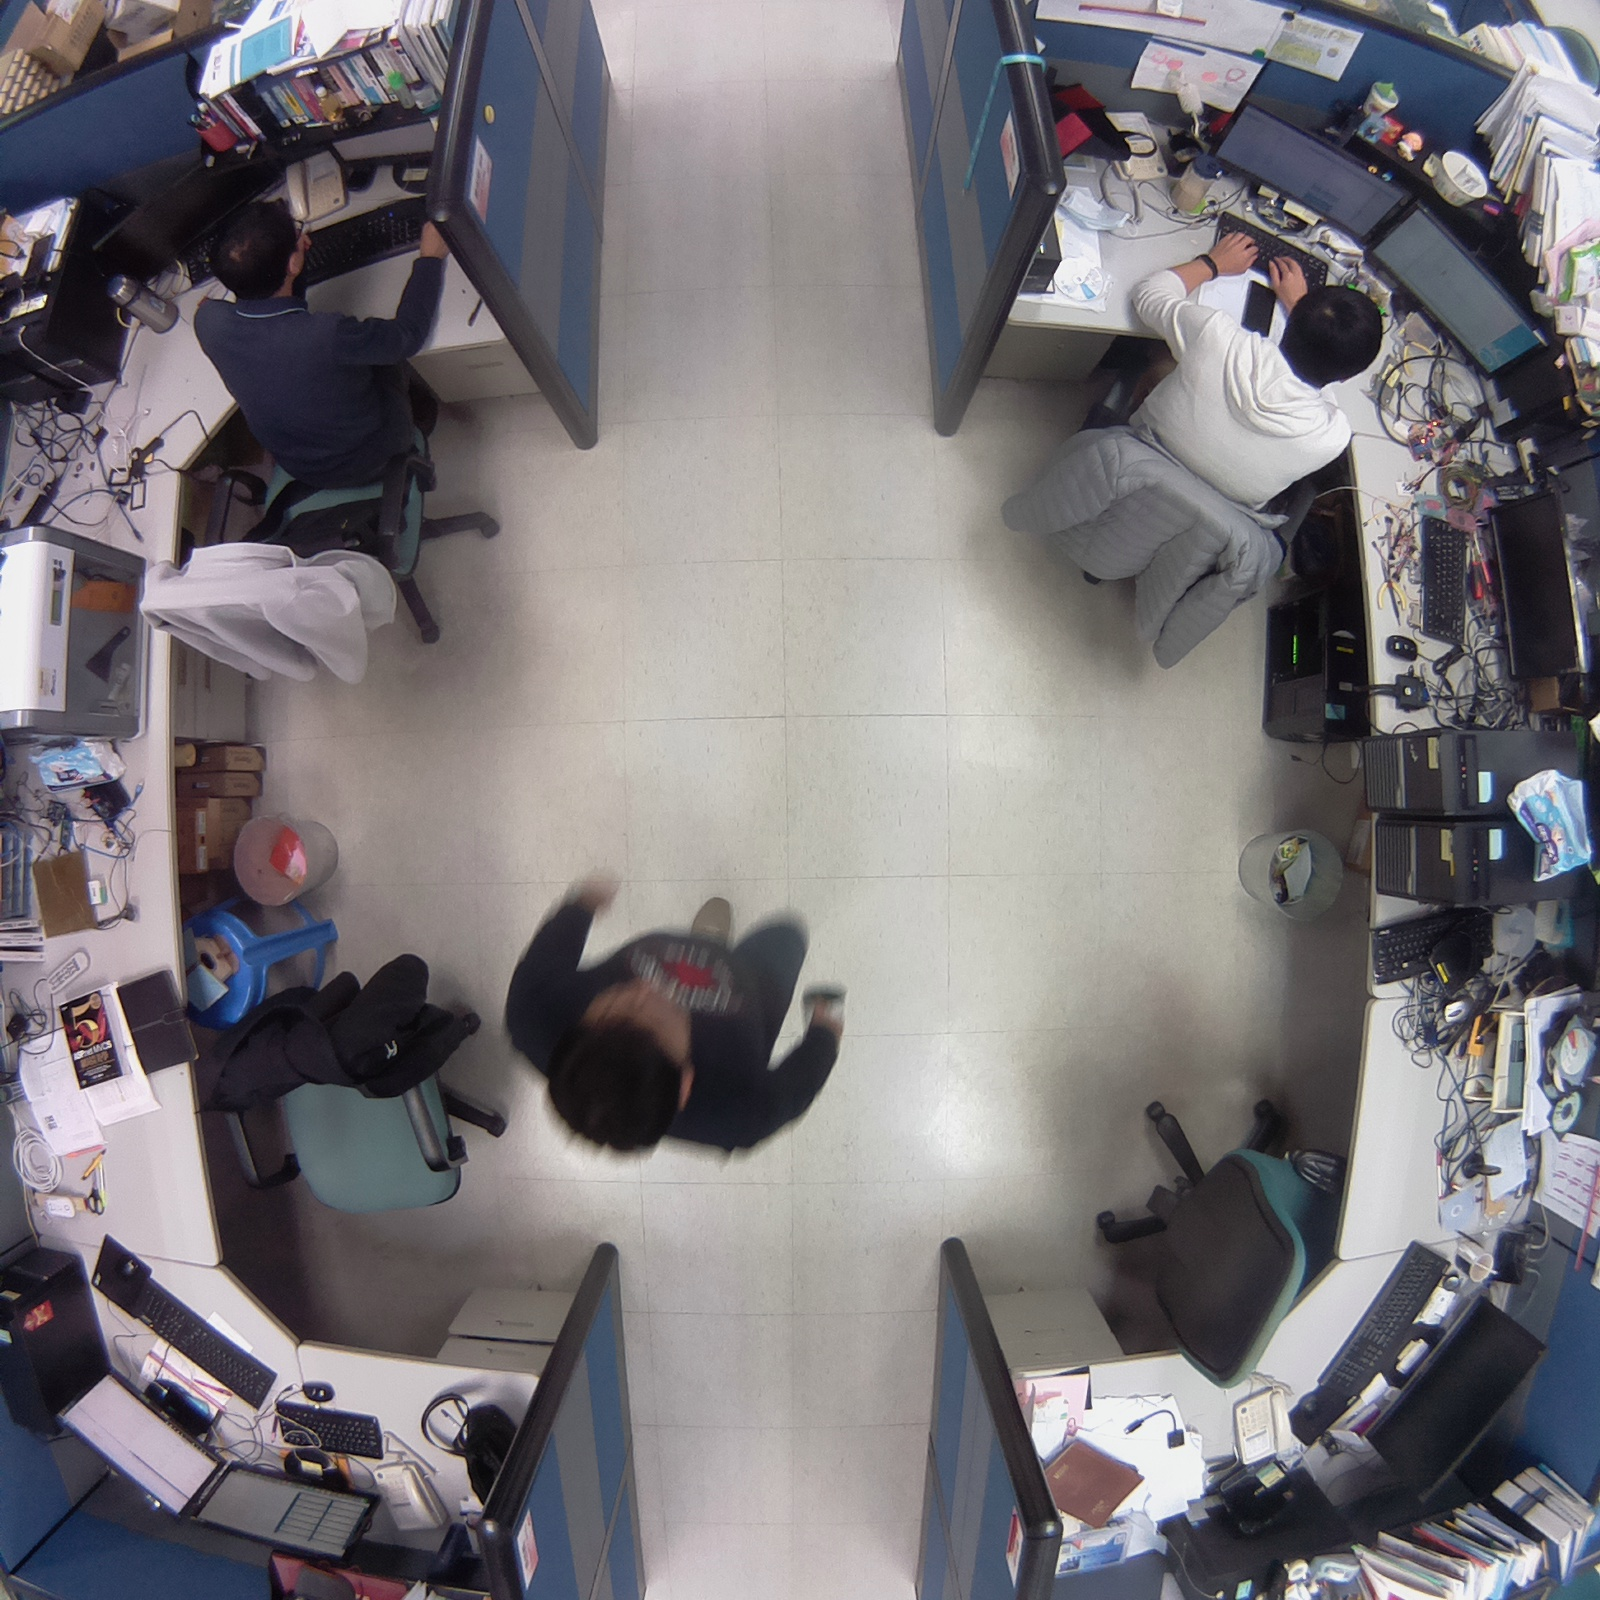chair: (170, 937, 519, 1229), (1063, 1073, 1345, 1409)
head: (542, 972, 697, 1161), (200, 193, 312, 306), (1278, 280, 1387, 389)
sitting: (117, 191, 517, 711), (988, 220, 1395, 688)
walking: (496, 866, 861, 1172)
